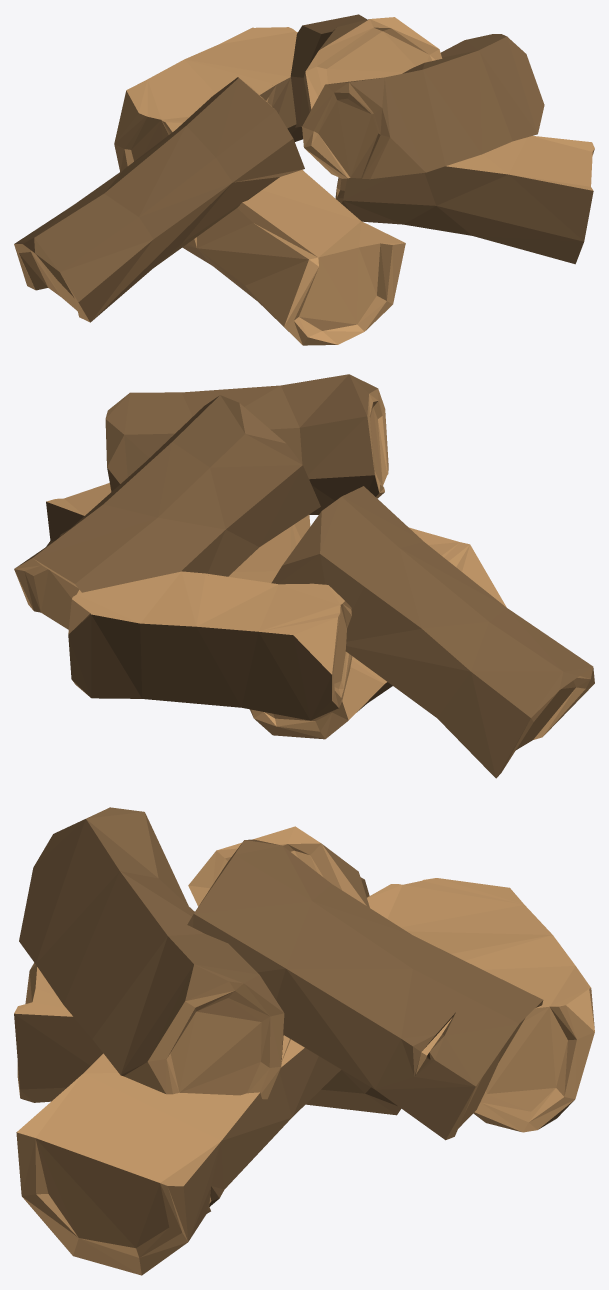
File: SFHW_Chemney_Logs.fbx
3 views of the same model, one above another, from view 1: azimuth 30°, elevation 25°; view 2: azimuth 150°, elevation 25°; view 3: azimuth 270°, elevation 25° (orthographic). The views are drawn at different scales.
Visible parts, largest first — view 1: SFHW_Chemney_Logs; view 2: SFHW_Chemney_Logs; view 3: SFHW_Chemney_Logs.
Part boxes in pixels (left/top/right/bottom): SFHW_Chemney_Logs: left=14, top=14, right=594, bottom=345; SFHW_Chemney_Logs: left=14, top=374, right=594, bottom=778; SFHW_Chemney_Logs: left=14, top=807, right=594, bottom=1275.
Bounding box in the file's own units: 102 × 45.53 × 71.95.
